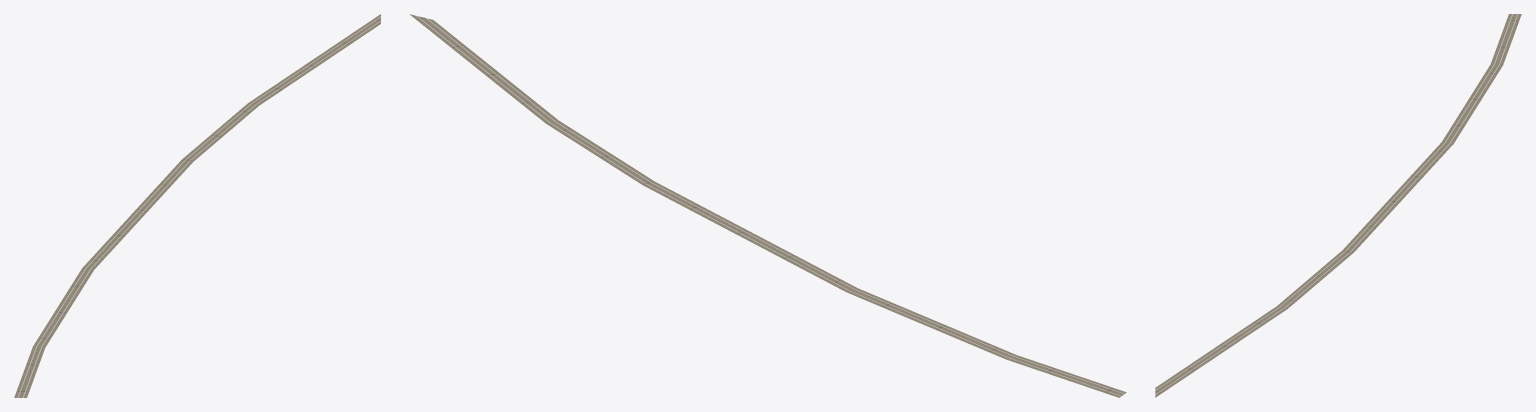
3 renders of one model, left to right at view 1: azimuth 90°, elevation 25°; view 2: azimuth 150°, elevation 25°; view 3: azimuth 270°, elevation 25°, orthographic. The views are drawn at different scales.
Parts seen in each view (by area): view 1: rail; view 2: rail; view 3: rail.
Boxes of the visible parts, box(x1,y1,x2,y2) form: rail: box(14, 14, 380, 397); rail: box(409, 14, 1126, 397); rail: box(1155, 14, 1521, 397).
Bounding box in the file's own units: 256 × 0.04 × 103.
